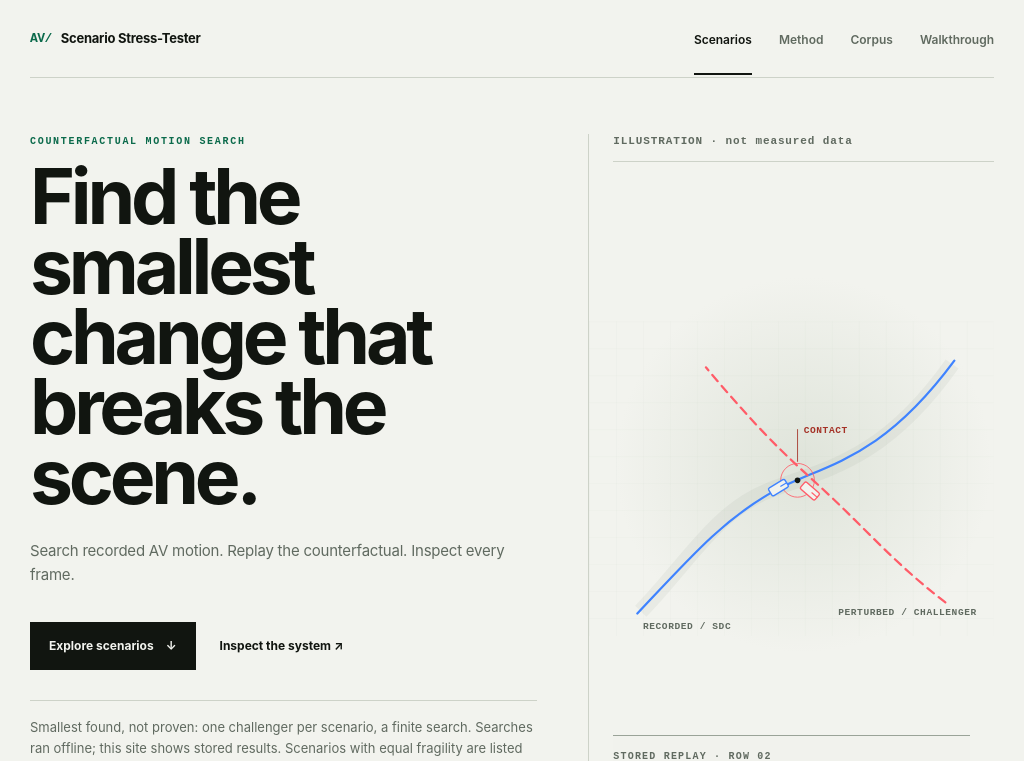
it: the page in the site › is in the navigation and has its own title
This screenshot has width=1024, height=761.
Click the link "Walkthrough" at {"x": 957, "y": 39}, box [920,32,994,47]
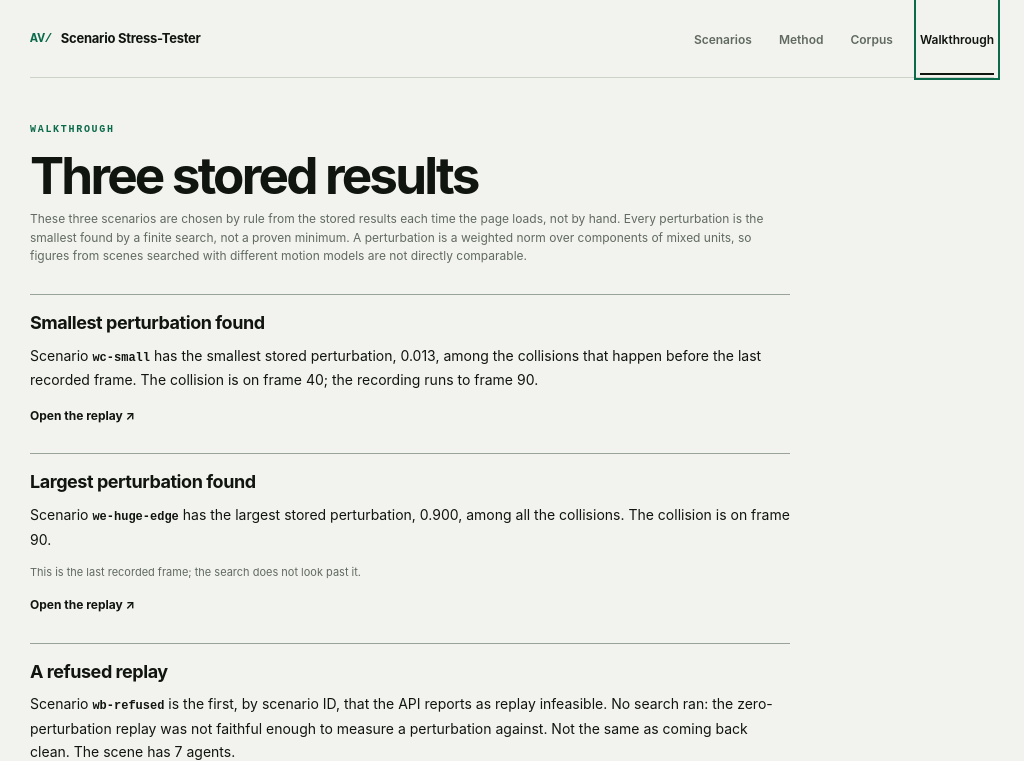
Expected: the heading "Three stored results" is shown, [30,144,478,206]
